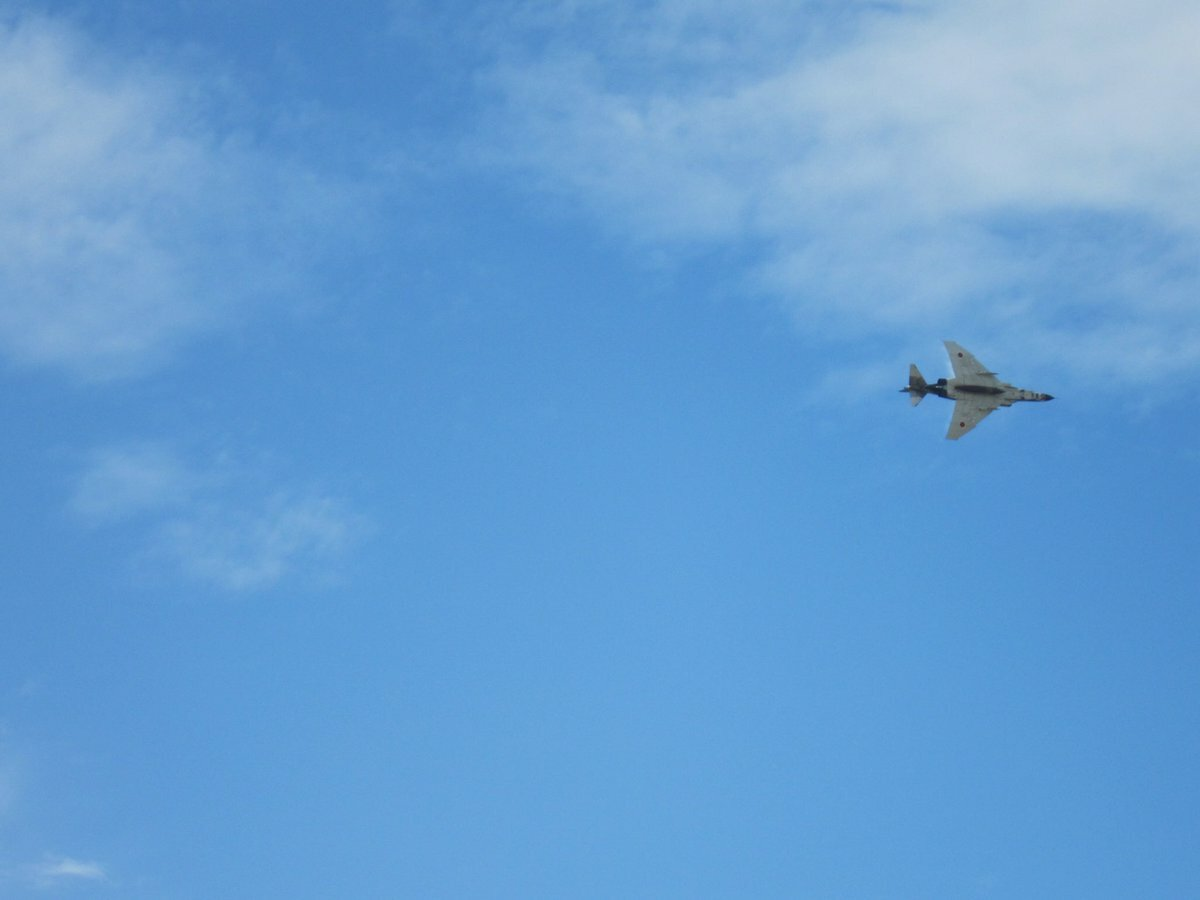F4: (897, 340, 1061, 442)
